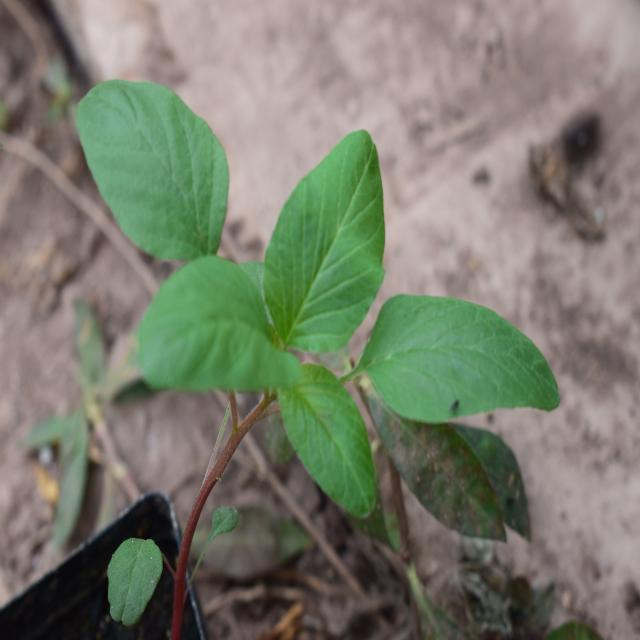pigweed: (81, 72, 543, 519)
